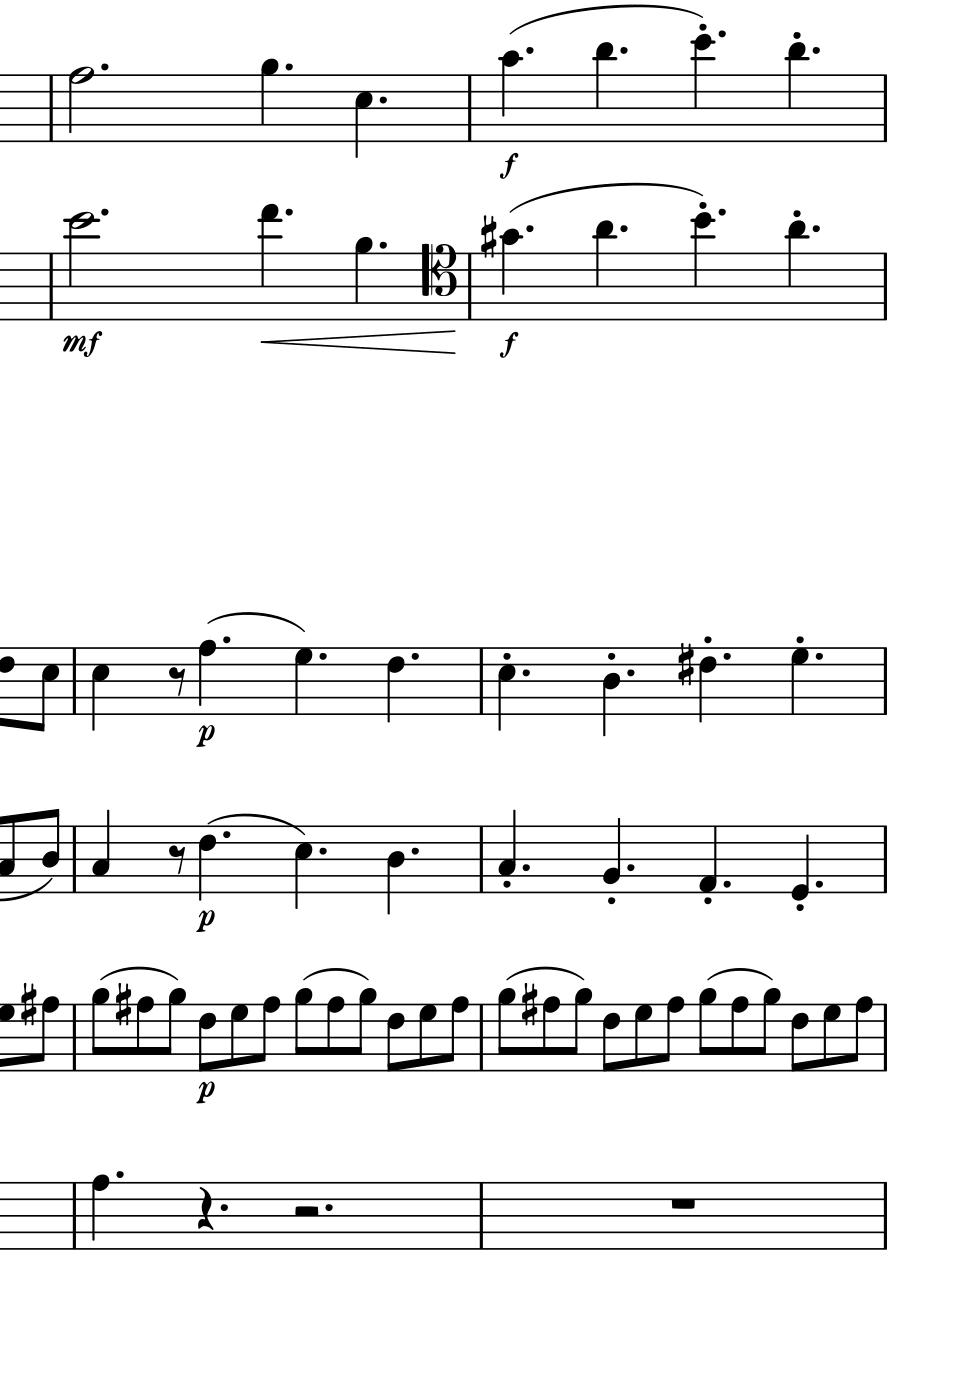2_12: (65, 210, 97, 322)
2_8: (66, 65, 94, 145)
4_0: (789, 823, 810, 901)
4_1: (696, 824, 718, 895)
4_10: (498, 49, 524, 146), (498, 227, 524, 324)
4_11: (784, 215, 808, 324), (592, 40, 617, 144), (784, 38, 808, 145), (592, 220, 616, 323)
4_12: (692, 34, 716, 145), (692, 213, 716, 323)
4_13: (257, 201, 282, 322)
4_2: (601, 815, 622, 893)
4_3: (89, 808, 111, 893), (496, 809, 517, 895)
4_4: (383, 824, 405, 918), (600, 646, 622, 739)
4_5: (89, 645, 111, 734), (352, 73, 374, 161), (495, 647, 517, 735), (292, 825, 313, 912)
4_6: (196, 825, 218, 903), (696, 646, 717, 727), (384, 646, 405, 725)
4_7: (292, 647, 313, 718), (788, 647, 809, 717)
4_8: (86, 1172, 111, 1253), (195, 638, 218, 716)
4_9: (351, 234, 373, 322), (258, 56, 279, 143)
8_3: (1, 812, 16, 902)
8_4: (39, 807, 59, 894)
8_5: (32, 646, 59, 734)
8_6: (196, 1002, 217, 1074), (789, 1002, 810, 1074), (385, 1002, 405, 1074), (601, 1002, 622, 1074)
8_7: (228, 1002, 249, 1073), (821, 1002, 842, 1072), (417, 1002, 437, 1073), (632, 1002, 652, 1073)
8_8: (657, 994, 685, 1073), (32, 995, 60, 1073), (253, 995, 281, 1073), (443, 995, 470, 1073), (848, 994, 875, 1072), (323, 994, 345, 1073), (134, 995, 155, 1073), (540, 995, 561, 1073), (729, 995, 749, 1072)
8_9: (564, 987, 593, 1074), (158, 987, 187, 1073), (754, 987, 782, 1073), (350, 987, 377, 1074), (88, 987, 110, 1074), (292, 987, 314, 1074), (696, 987, 718, 1073), (495, 987, 517, 1073)
Crescendo_hairpin: (260, 328, 456, 355)
Rests1: (666, 1194, 700, 1213)
Rests2: (288, 1204, 321, 1222)
Rests4: (192, 1185, 215, 1232)
Rests8: (167, 664, 188, 698), (167, 843, 186, 876)
Sharp: (675, 641, 695, 688), (519, 980, 539, 1028), (112, 980, 133, 1027), (18, 980, 37, 1028), (479, 214, 497, 260)
Single_barline: (65, 647, 83, 715), (66, 1182, 83, 1249), (43, 74, 60, 140), (876, 75, 893, 141), (876, 253, 893, 319), (472, 648, 489, 714), (876, 648, 893, 714), (461, 76, 478, 141), (877, 1182, 893, 1250), (66, 1004, 82, 1070), (473, 1183, 489, 1249), (473, 1005, 489, 1070), (473, 827, 489, 891), (877, 826, 892, 892), (878, 1003, 892, 1073), (43, 253, 58, 318), (67, 826, 82, 891), (462, 255, 476, 320)
Slur: (509, 178, 708, 216), (508, 1, 705, 36), (206, 611, 305, 633), (1, 875, 54, 901), (101, 966, 180, 982), (503, 966, 582, 981), (706, 966, 774, 982), (301, 967, 368, 982)
Tensor_Cclef: (417, 241, 457, 321)
dot: (407, 649, 422, 664), (518, 666, 533, 680), (315, 649, 329, 664), (624, 666, 638, 680), (375, 93, 389, 107), (812, 649, 826, 663), (407, 844, 421, 858), (315, 845, 329, 859), (617, 43, 630, 58), (523, 43, 535, 59), (282, 206, 295, 220), (375, 239, 388, 252), (617, 222, 629, 236), (282, 62, 295, 74), (809, 223, 822, 235), (220, 633, 232, 646), (720, 650, 733, 663), (113, 1169, 126, 1181), (715, 28, 727, 41), (809, 43, 821, 57), (97, 62, 110, 73), (98, 206, 109, 220), (716, 206, 728, 220), (523, 223, 535, 236), (220, 829, 232, 841), (624, 862, 636, 874), (720, 877, 732, 890), (322, 1201, 334, 1214), (519, 862, 532, 873), (812, 878, 824, 890), (218, 1201, 229, 1214), (702, 634, 714, 645)
f: (496, 151, 521, 181), (495, 330, 520, 359)
mf: (60, 328, 103, 361)
p: (195, 908, 216, 936), (194, 723, 216, 750), (194, 1080, 216, 1106)
